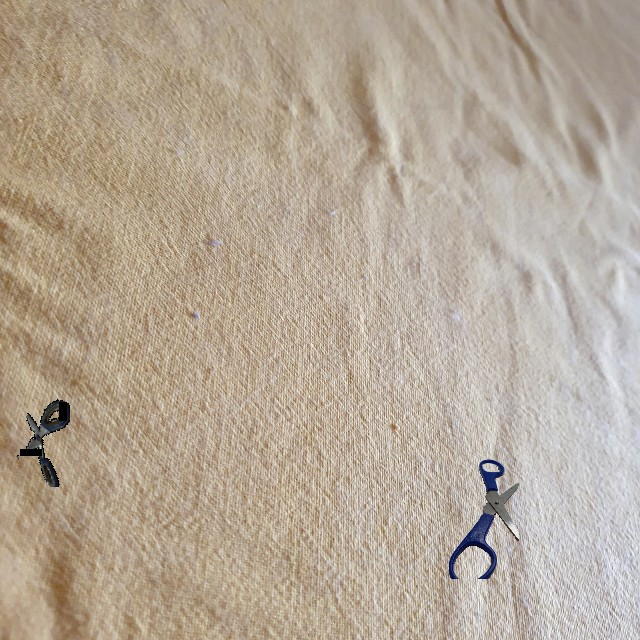scissors: (449, 459, 519, 579), (16, 399, 70, 487)
